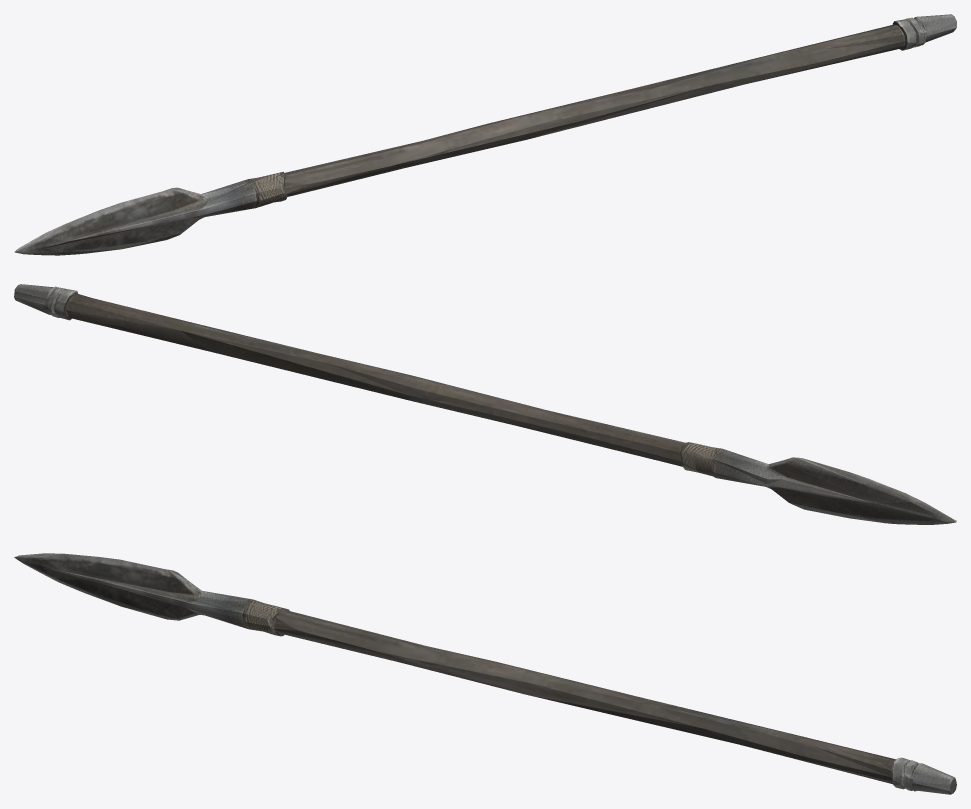
The model's file is spear.glb.
The picture shows the model from 3 angles, top to bottom: view 1: azimuth 30°, elevation 25°; view 2: azimuth 150°, elevation 25°; view 3: azimuth 330°, elevation 25°; orthographic projection.
Visible parts, largest first — view 1: output_unwrapped; view 2: output_unwrapped; view 3: output_unwrapped.
Boxes of the visible parts, left/top/right/bottom form: output_unwrapped: left=14, top=14, right=956, bottom=255; output_unwrapped: left=14, top=284, right=956, bottom=524; output_unwrapped: left=14, top=553, right=956, bottom=794.
Bounding box in the file's own units: 2.4 × 0.1233 × 0.0667.
1 material, 1 textured.
